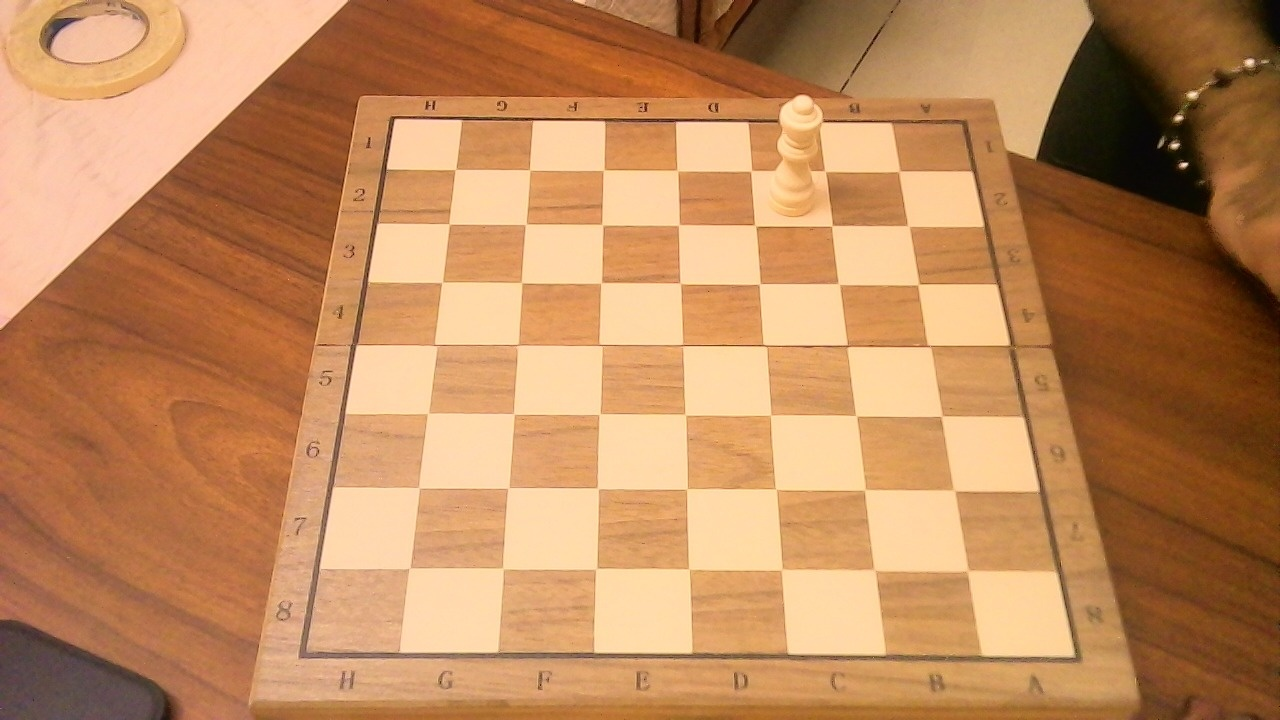Q: (762, 84, 831, 221)
